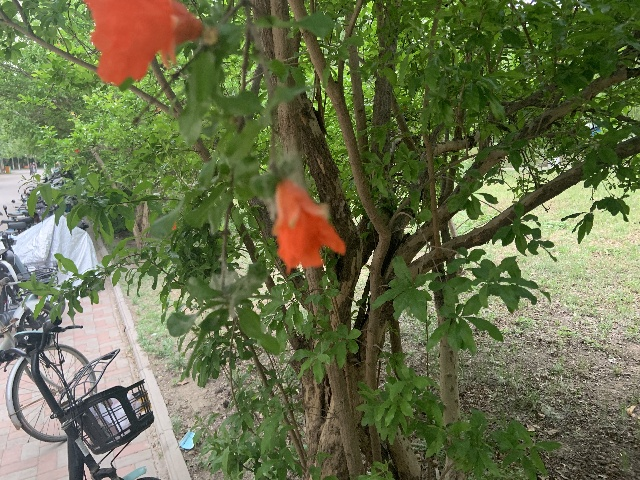flower: (76, 0, 203, 85), (270, 179, 346, 272)
